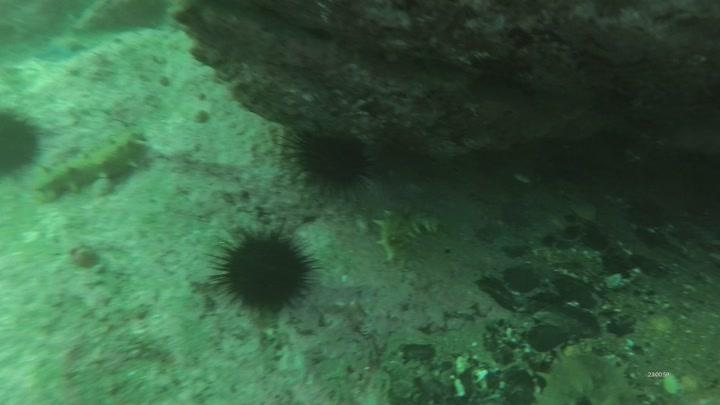urchin: (216, 229, 328, 316), (282, 127, 371, 191), (1, 108, 52, 185)
